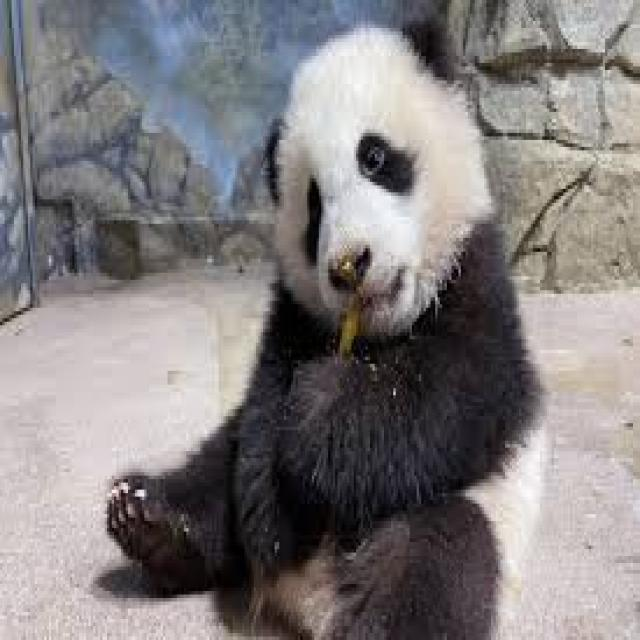Panda: (102, 3, 542, 640)
